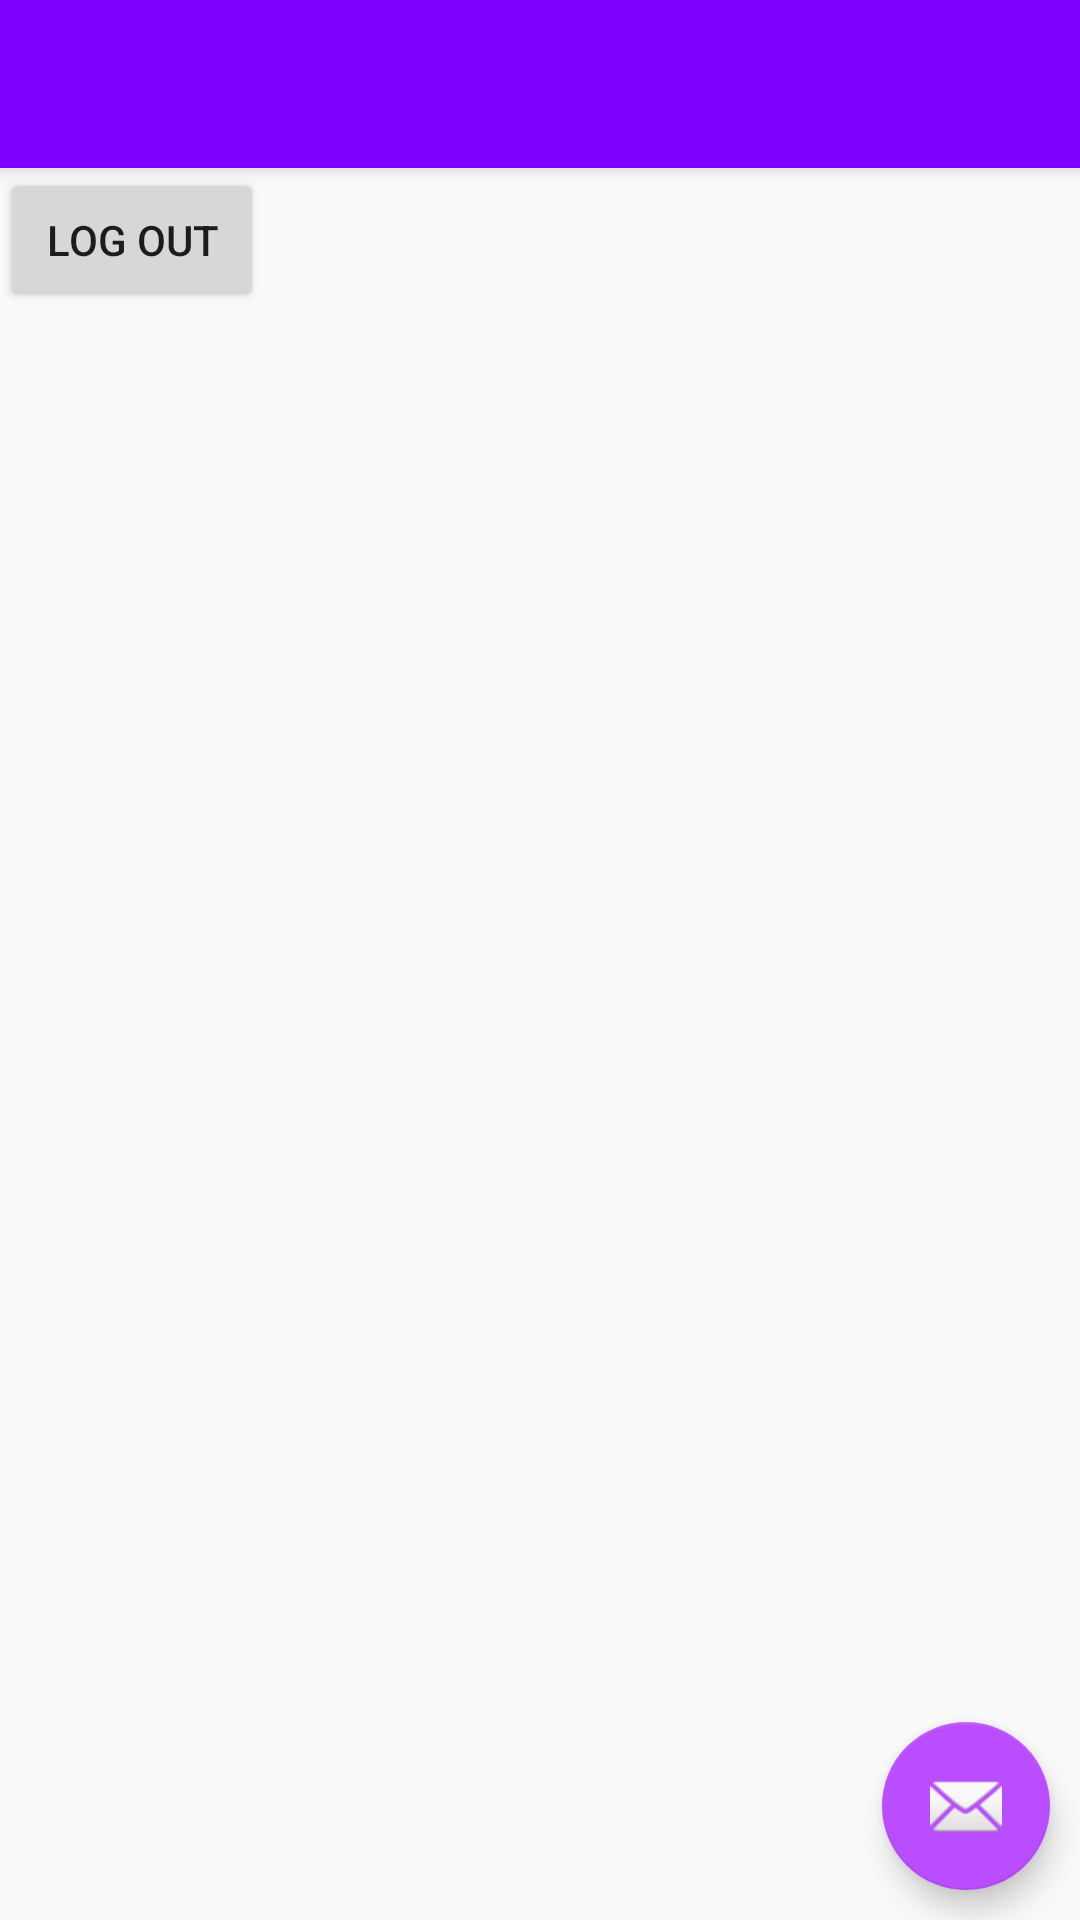

Named icons in this screenshot (1080x1920) and their centers, (x,y):
email: (966,1806)
